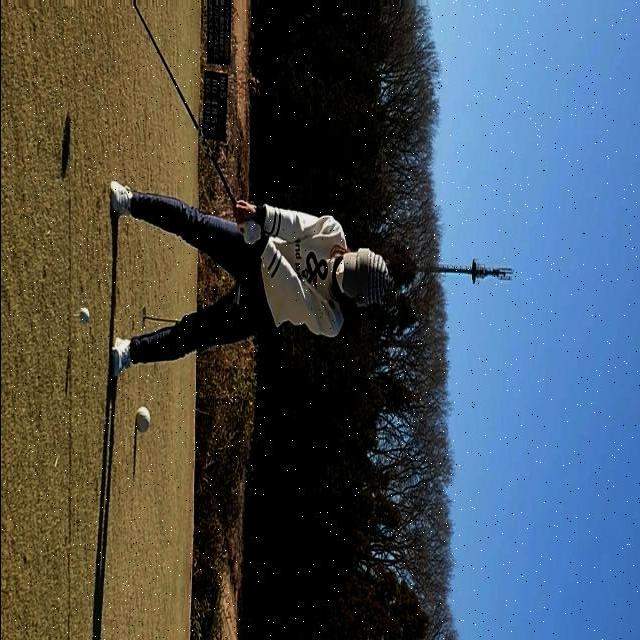ClubHandle: (124, 0, 244, 218)
GolfBall: (81, 300, 91, 321)
